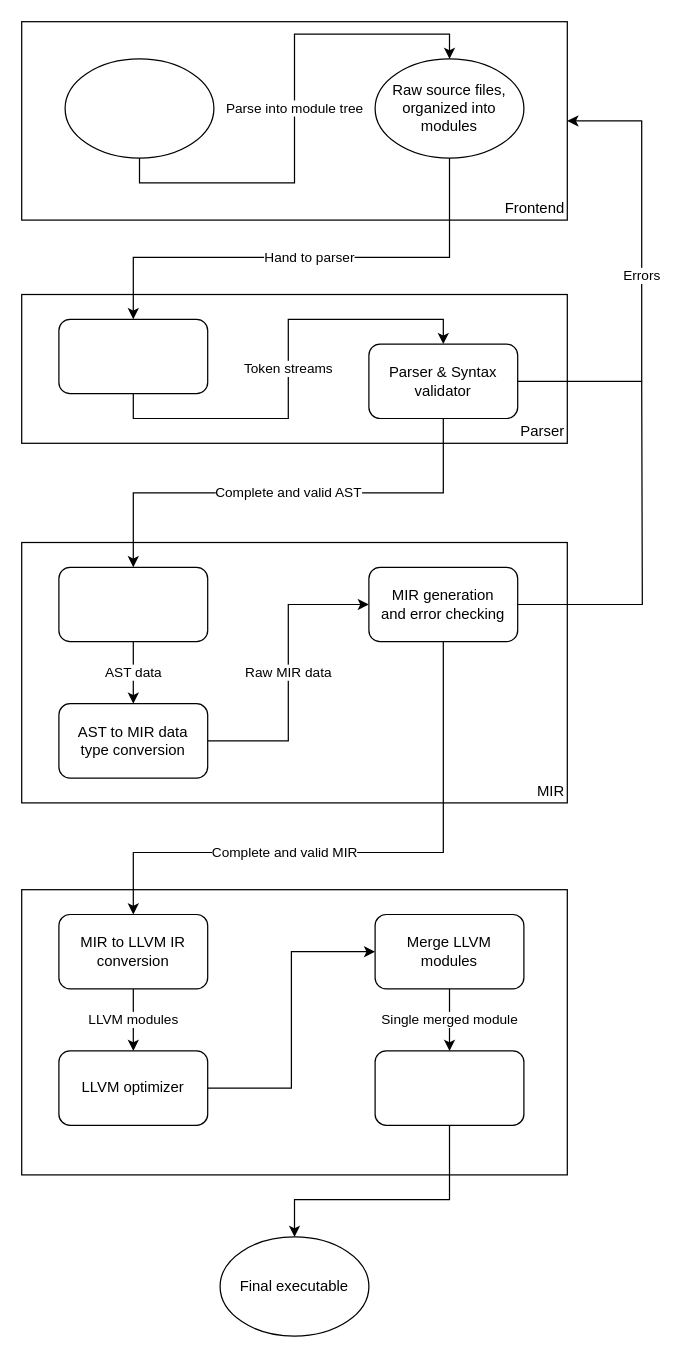
Image size: 682x1358. Some labels were removed from this diagram. The box of each missing label's shape, as (x1, y1, x2, y2) in pixels:
AST data collection passes: (58, 566, 208, 642)
Invoke clang IR compiler: (374, 1050, 524, 1125)
IR & Clang: (20, 888, 567, 1175)
Lexer: (58, 318, 208, 394)
Source directory: (64, 58, 214, 158)
